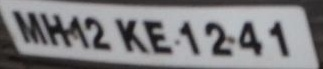character: (12, 9, 46, 45), (115, 19, 148, 52), (39, 13, 71, 47), (143, 20, 172, 54), (203, 20, 231, 55), (84, 17, 111, 49), (238, 20, 262, 56), (178, 20, 200, 55), (269, 19, 289, 57), (70, 16, 89, 49)
